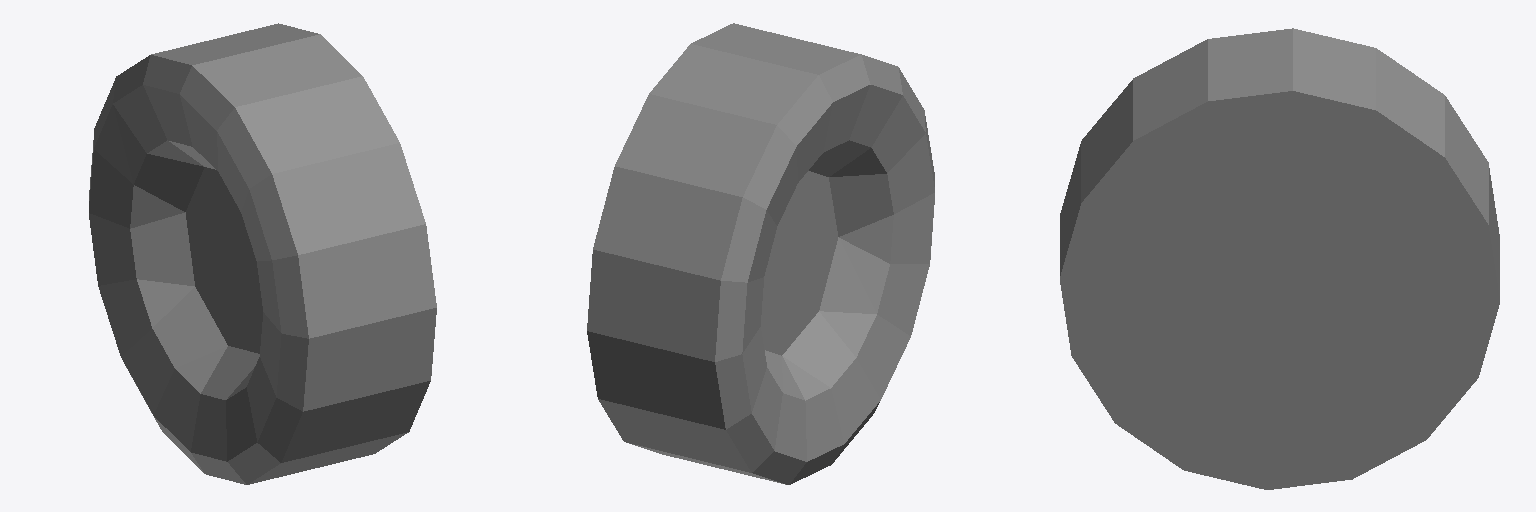
File: bourak_Rueda_M.obj
3 views of the same model, side by side, from view 1: azimuth 30°, elevation 25°; view 2: azimuth 150°, elevation 25°; view 3: azimuth 270°, elevation 25° (orthographic).
Visible parts, largest first — view 1: wheel_04; view 2: wheel_04; view 3: wheel_04.
Boxes of the visible parts, <box> form: wheel_04: <box>89,23,436,484</box>; wheel_04: <box>587,23,934,484</box>; wheel_04: <box>1060,28,1499,489</box>.
Bounding box in the file's own units: 0.17 × 0.4578 × 0.4578.